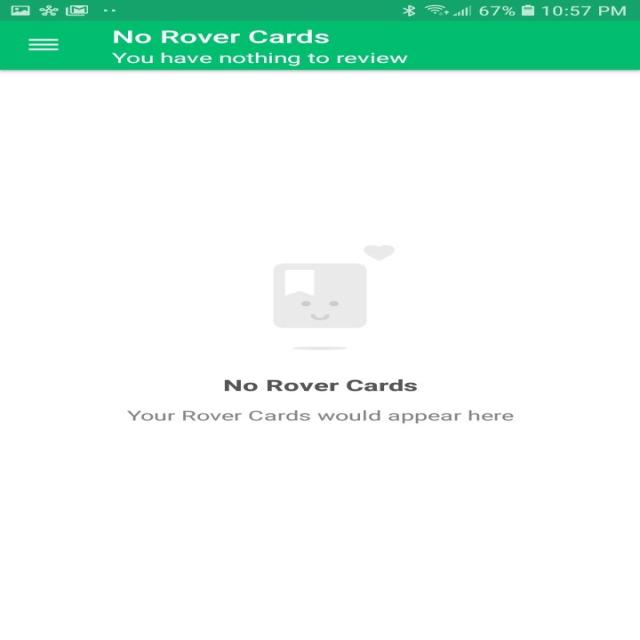Icon: (27, 38, 59, 51)
Image: (272, 244, 395, 350)
Text: (126, 409, 513, 424), (111, 52, 408, 67), (113, 29, 329, 44), (224, 378, 417, 392)
